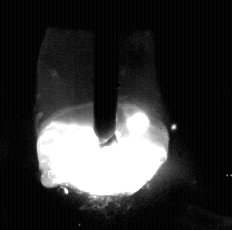arame: (94, 0, 118, 147)
poca: (35, 0, 169, 230)
